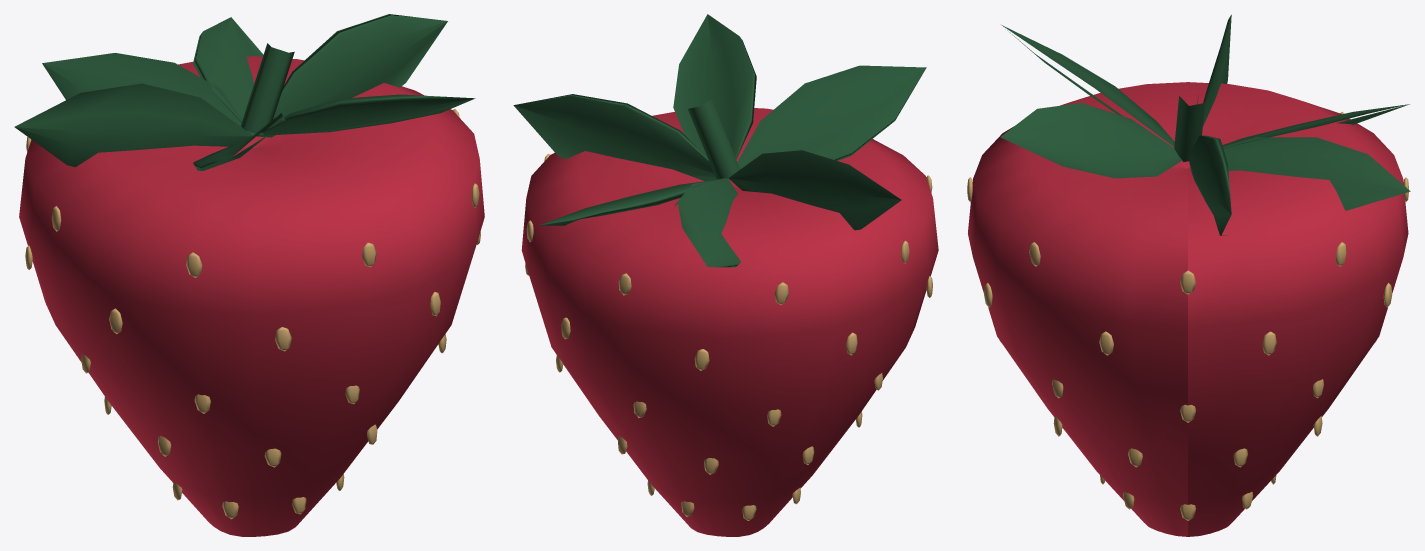
The model's file is fruta_fresa.glb.
3 renders of one model, left to right at view 1: azimuth 30°, elevation 25°; view 2: azimuth 150°, elevation 25°; view 3: azimuth 270°, elevation 25°, orthographic. The views are drawn at different scales.
Parts seen in each view (by area): view 1: fruta_fresa; view 2: fruta_fresa; view 3: fruta_fresa.
Boxes of the visible parts, x1,y1,x2,y2 form: fruta_fresa: (14, 14, 484, 536); fruta_fresa: (513, 14, 938, 536); fruta_fresa: (967, 14, 1410, 536).
Bounding box in the file's own units: 0.2648 × 0.2801 × 0.2476.
